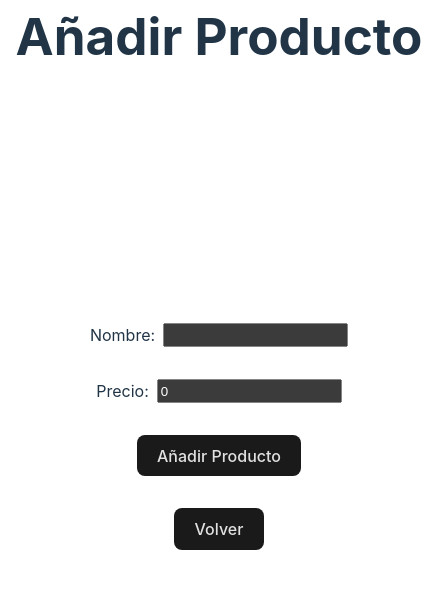
Scenario: AddProduct › should show an error message if the product name is empty
Replace the text in the number field labelled "Precio:" with "100" at {"x": 249, "y": 391}, box [157,379,342,403]
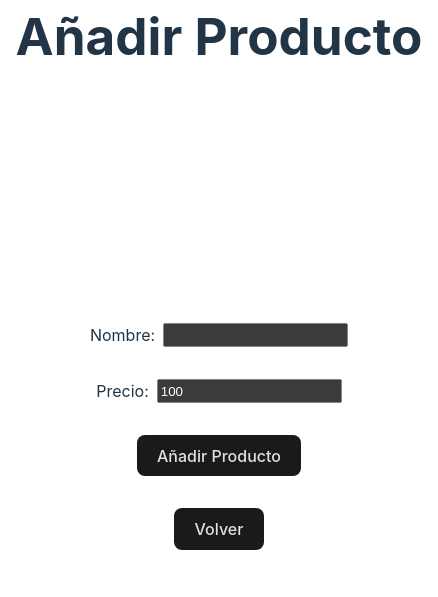
Click the button "Añadir Producto".
click(219, 456)  # box [137,435,301,476]
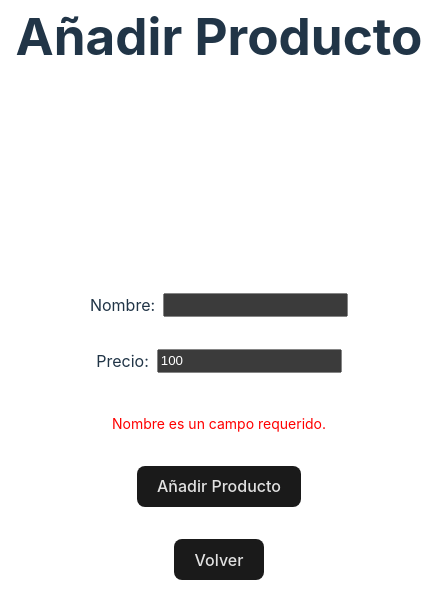
Check: the text "Nombre es un campo requerido." is shown, box [112,413,326,434]
